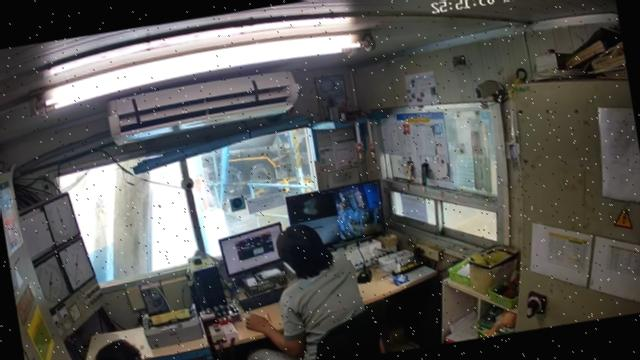Head: (276, 225, 333, 294)
People: (245, 226, 365, 359), (108, 349, 131, 359)
